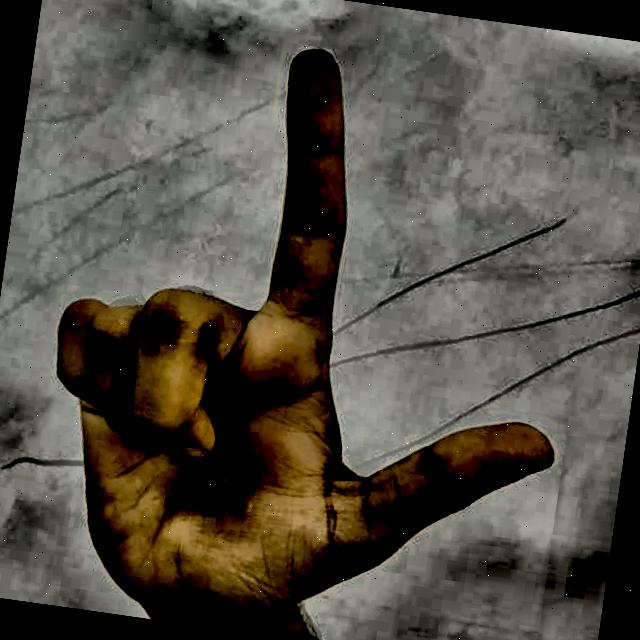La: (0, 0, 626, 640)
